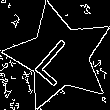L_NE: (30, 27, 88, 86)
